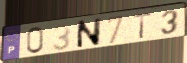0: (26, 26, 45, 56)
3: (51, 23, 72, 52), (159, 9, 180, 36)
7: (106, 15, 126, 45)
N: (76, 16, 103, 50)
T: (132, 11, 155, 40)
